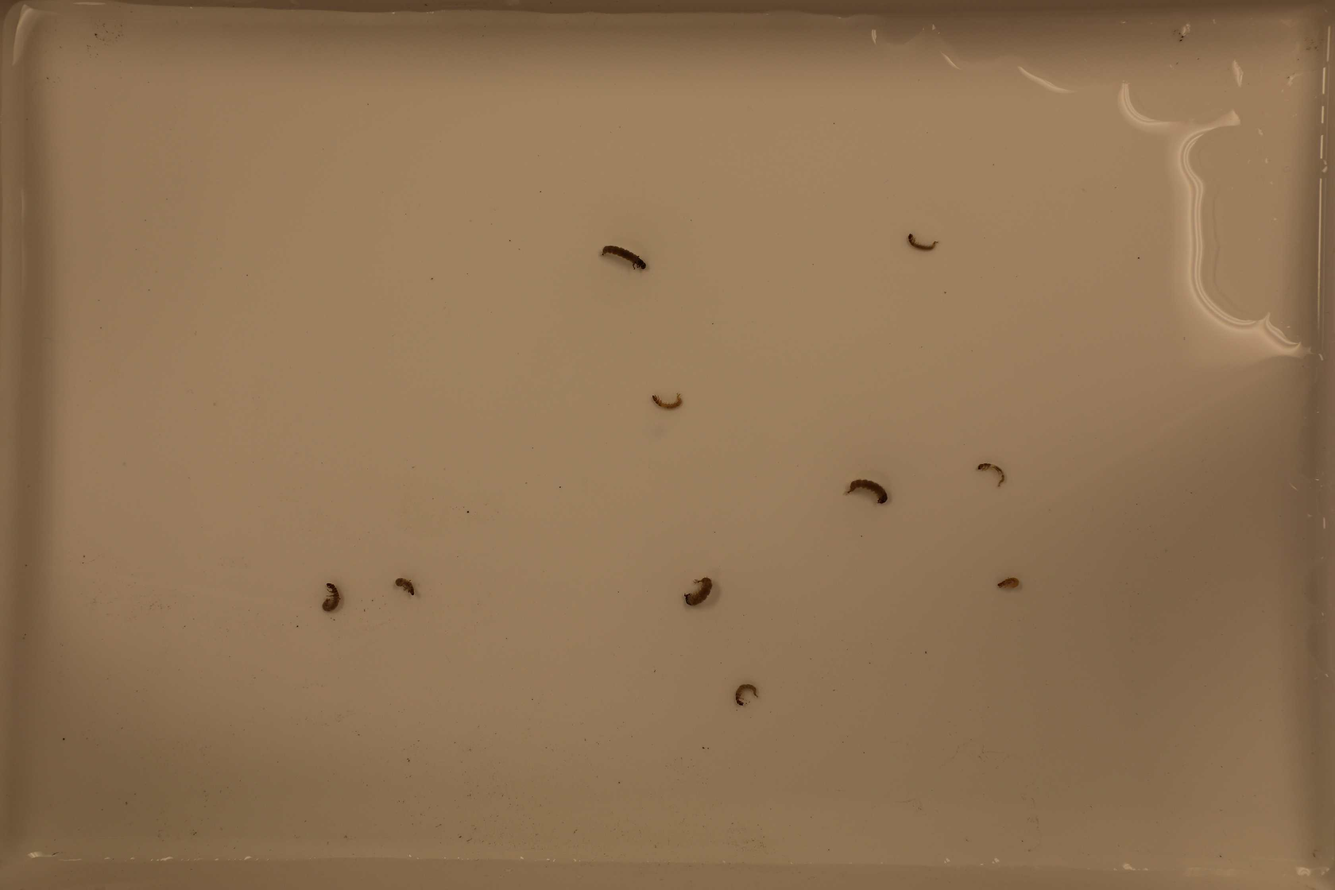Cadisfly: (596, 238, 652, 274), (680, 573, 717, 613), (842, 477, 888, 505), (905, 226, 943, 254), (731, 677, 760, 712), (315, 581, 345, 614), (974, 461, 1007, 489), (654, 390, 684, 416), (391, 576, 421, 596), (994, 580, 1022, 593)
